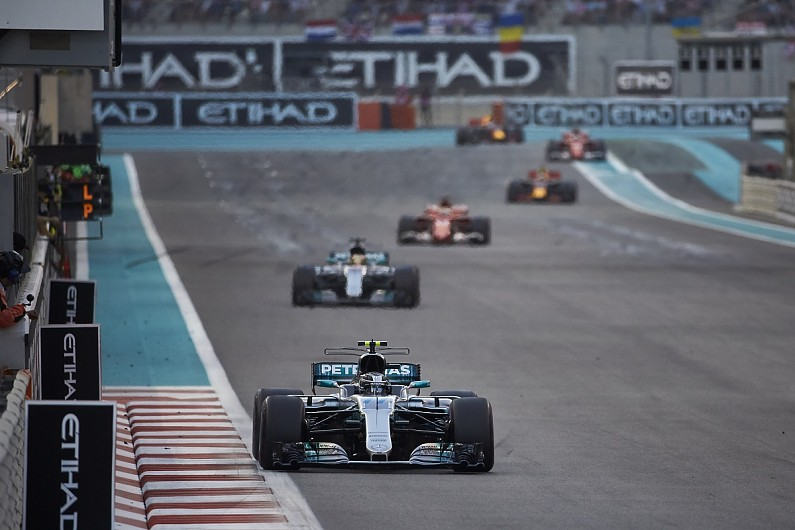race car: (253, 339, 495, 471), (291, 235, 422, 308), (396, 195, 492, 245), (503, 164, 576, 205), (454, 111, 528, 148), (546, 124, 605, 163)
